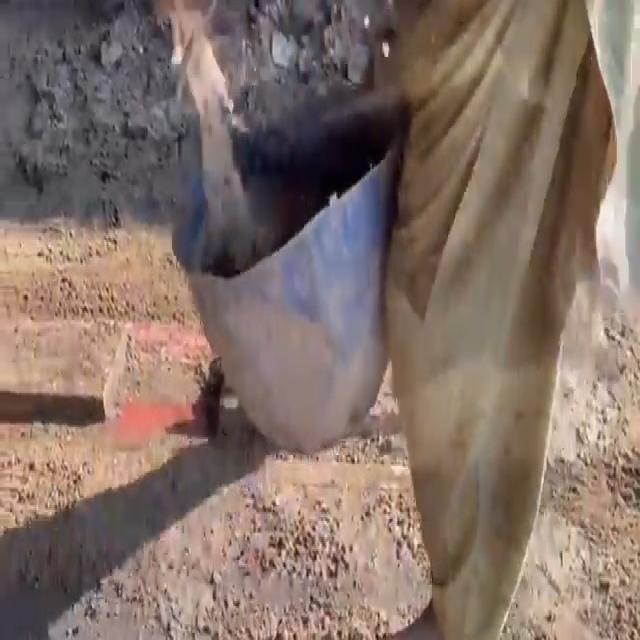dress: (390, 1, 638, 632)
